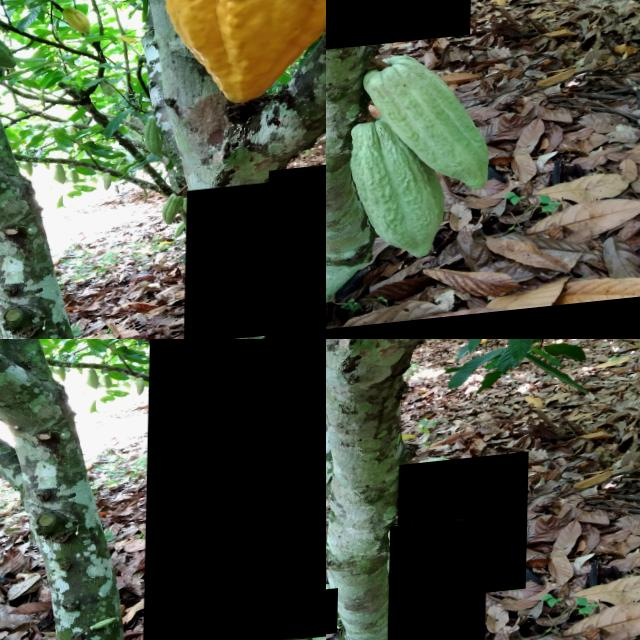Monilia: (145, 339, 326, 640), (186, 189, 275, 339)
Sana: (399, 462, 530, 610), (389, 526, 489, 640), (266, 169, 326, 339), (326, 594, 340, 640)
